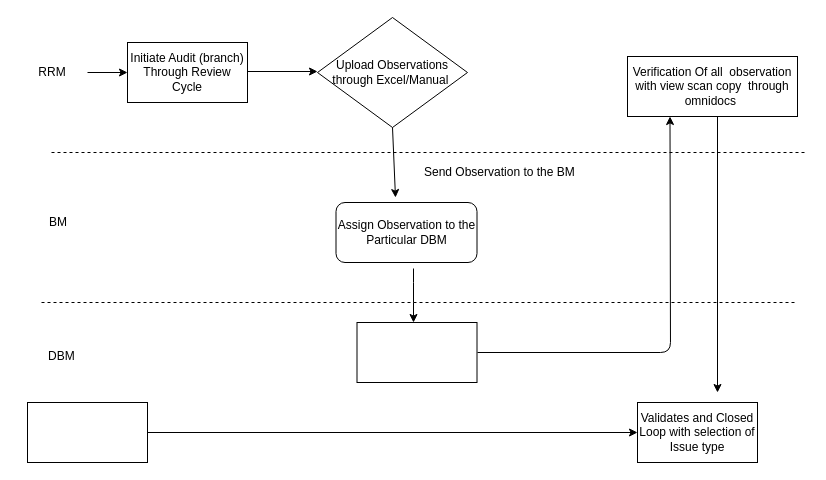
Image size: 826x480. Some labels were removed from this diagram. Each missing label, with the box of its shape:
Risk Matrix linked rating With Issue Type: (26, 402, 148, 462)
Send Scan copy of images/files through Omnidocs Upload: (356, 322, 477, 382)
